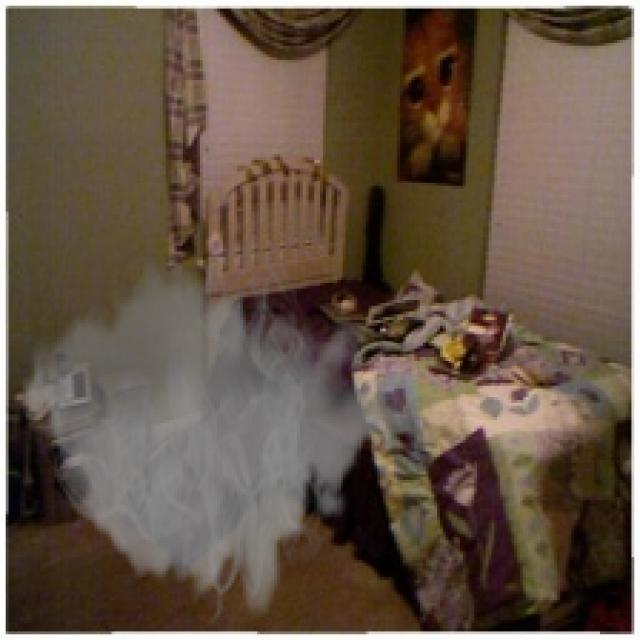smoke: (20, 228, 406, 632)
